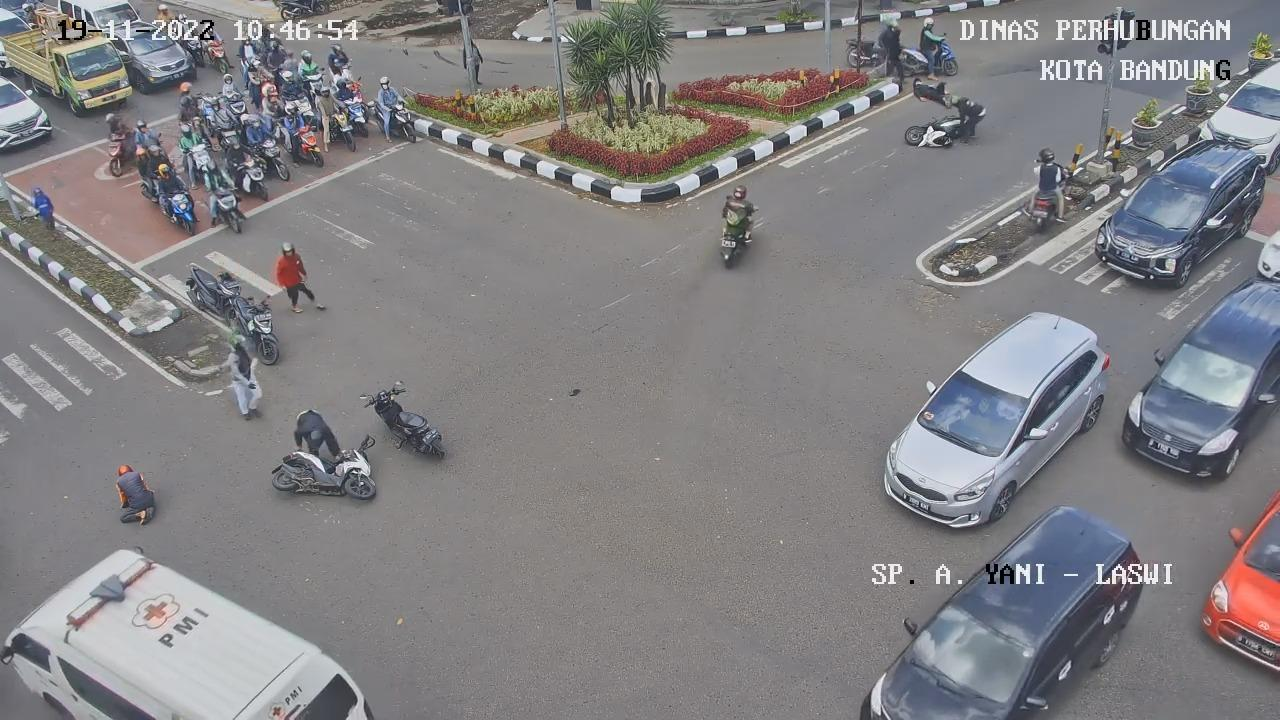accident: (100, 450, 170, 539), (899, 65, 962, 113)
